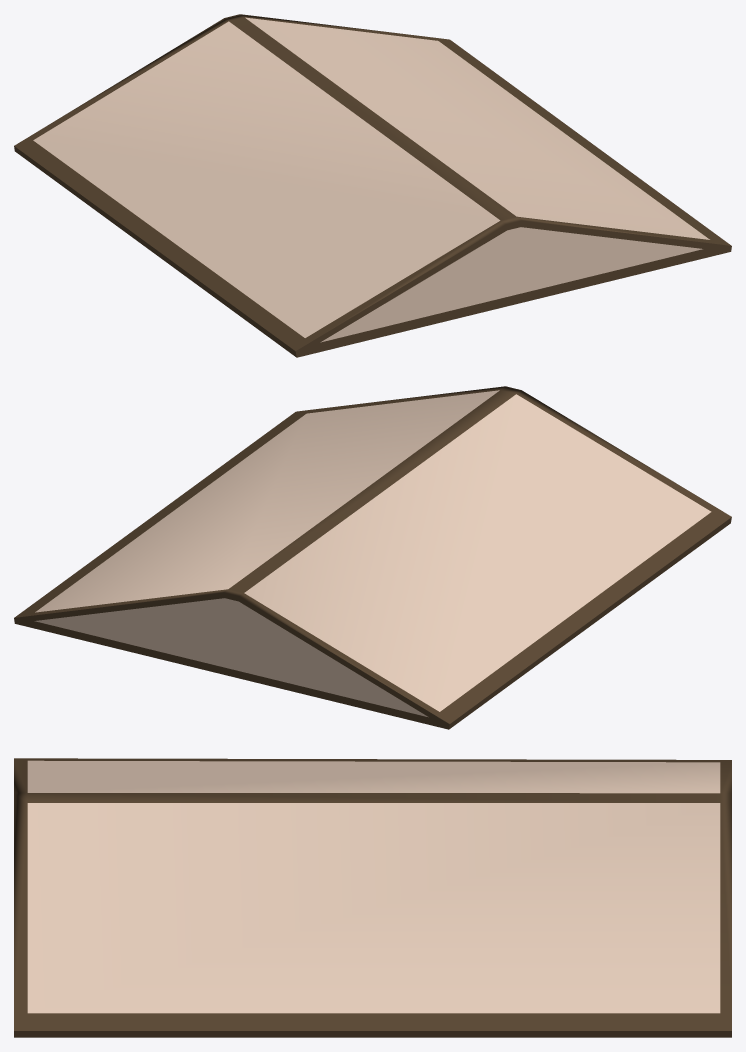
Rendered from new_greek_roof_1_square.fbx.
3 views of the same model, one above another, from view 1: azimuth 30°, elevation 25°; view 2: azimuth 150°, elevation 25°; view 3: azimuth 270°, elevation 25° (orthographic). The views are drawn at different scales.
Parts seen in each view (by area): view 1: Cube.018; view 2: Cube.018; view 3: Cube.018.
Boxes of the visible parts, x1=… form: Cube.018: x1=14, y1=14, x2=731, y2=357; Cube.018: x1=14, y1=386, x2=731, y2=729; Cube.018: x1=14, y1=758, x2=731, y2=1037.
Bounding box in the file's own units: 1111 × 200 × 1244.
